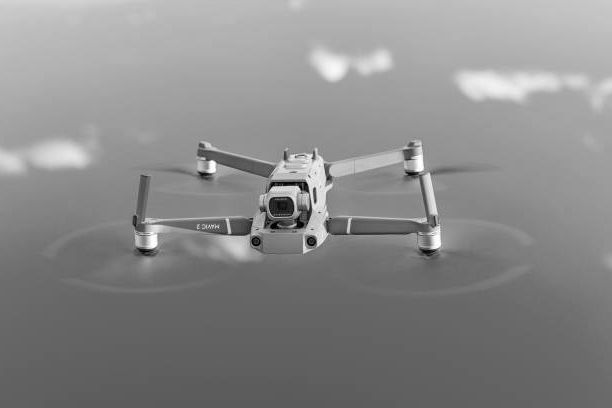Drone: (48, 137, 535, 297)
